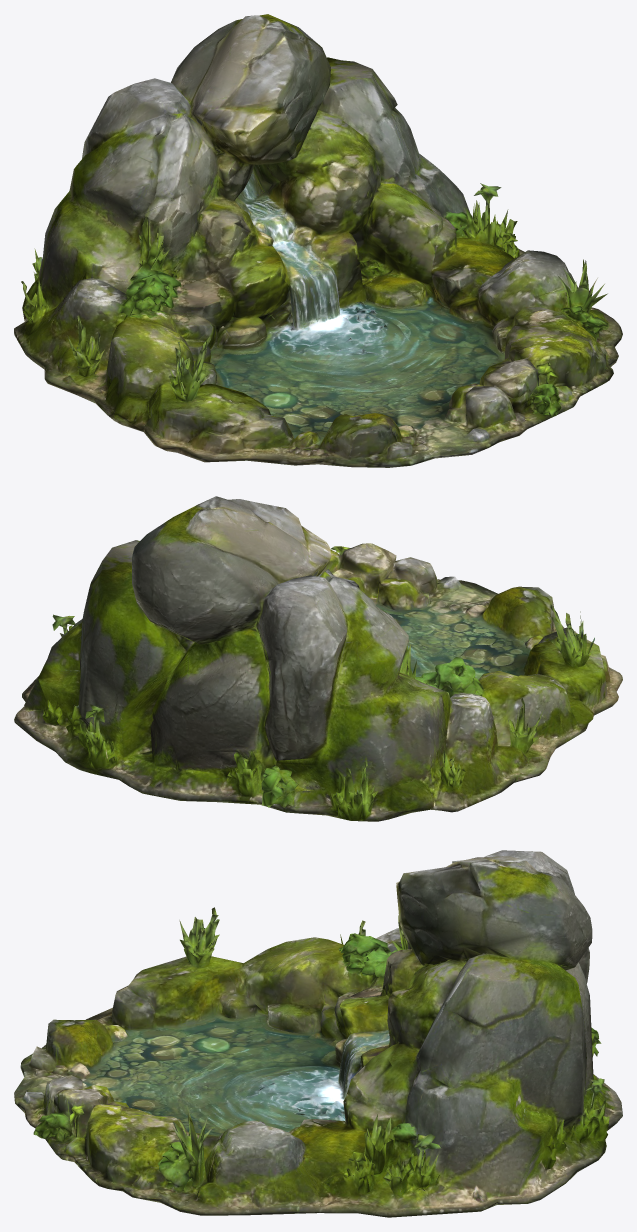
File: city_balikesir_mossy_cascade.glb
3 renders of one model, top to bottom at view 1: azimuth 30°, elevation 25°; view 2: azimuth 150°, elevation 25°; view 3: azimuth 270°, elevation 25°, orthographic. The views are drawn at different scales.
Visible parts, largest first — view 1: Mesh1.0; view 2: Mesh1.0; view 3: Mesh1.0.
Part boxes in pixels (x1=…): Mesh1.0: x1=14, y1=14, x2=622, y2=467; Mesh1.0: x1=14, y1=496, x2=622, y2=821; Mesh1.0: x1=14, y1=850, x2=622, y2=1217.
Size of the model in its own units: 4.9 by 2.4 by 5.2.
1 material, 1 textured.
